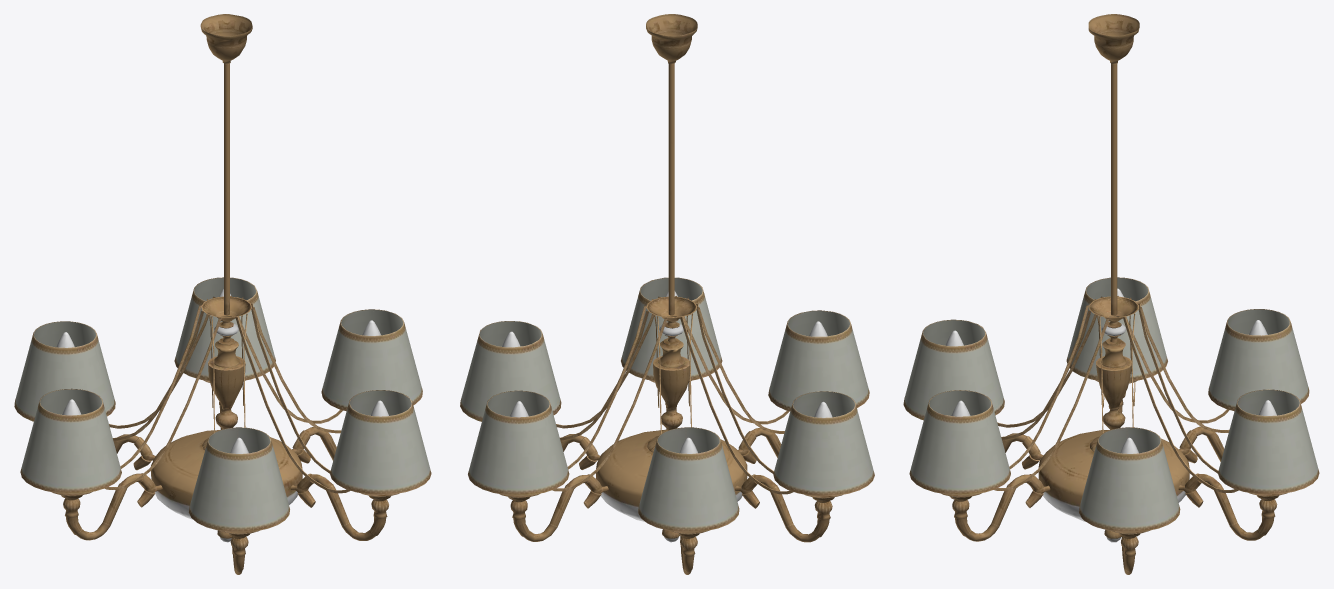
File: chandelier.glb
3 views of the same model, side by side, from view 1: azimuth 30°, elevation 25°; view 2: azimuth 150°, elevation 25°; view 3: azimuth 270°, elevation 25° (orthographic).
Visible parts, largest first — view 1: Chandelier_02; view 2: Chandelier_02; view 3: Chandelier_02.
Boxes of the visible parts, x1,y1,x2,y2 form: Chandelier_02: (14, 14, 431, 574); Chandelier_02: (460, 14, 874, 574); Chandelier_02: (903, 14, 1319, 574).
Bounding box in the file's own units: 0.6788 × 0.8481 × 0.619.
2 materials, 1 textured.
